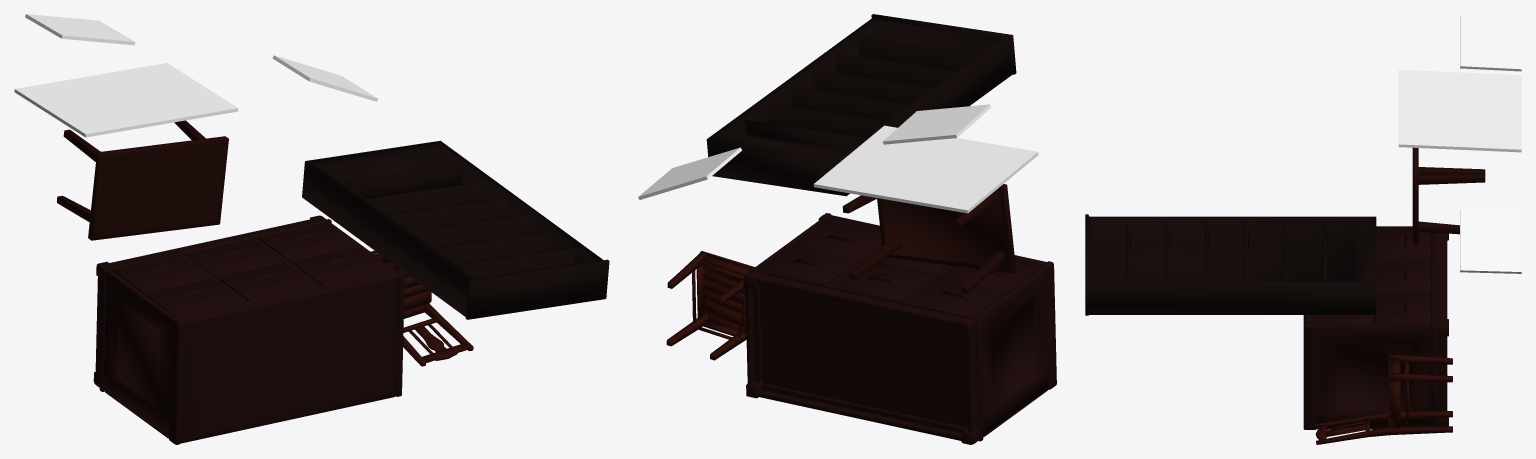
3 views of the same model, side by side, from view 1: azimuth 30°, elevation 25°; view 2: azimuth 150°, elevation 25°; view 3: azimuth 270°, elevation 25° (orthographic). The views are drawn at different scales.
Parts seen in each view (by area): view 1: diffuse_cabinet_01, diffuse_shelf_03, diffuse_table_02, glass_window_01, diffuse_chair_04, glass_partition_03, glass_partition_02; view 2: diffuse_cabinet_01, diffuse_shelf_03, glass_window_01, diffuse_table_02, diffuse_chair_04, glass_partition_03, glass_partition_02; view 3: diffuse_shelf_03, diffuse_cabinet_01, glass_window_01, diffuse_chair_04, glass_partition_02, glass_partition_03, diffuse_table_02.
Part boxes in pixels (bbox=[...]): diffuse_cabinet_01: bbox=[93, 215, 404, 444]; diffuse_shelf_03: bbox=[302, 140, 609, 319]; diffuse_table_02: bbox=[57, 120, 228, 240]; glass_window_01: bbox=[14, 63, 238, 137]; diffuse_chair_04: bbox=[371, 250, 473, 366]; glass_partition_03: bbox=[25, 14, 135, 45]; glass_partition_02: bbox=[272, 55, 377, 101]; diffuse_cabinet_01: bbox=[743, 213, 1056, 444]; diffuse_shelf_03: bbox=[706, 14, 1016, 196]; glass_window_01: bbox=[813, 125, 1038, 213]; diffuse_table_02: bbox=[842, 184, 1015, 293]; diffuse_chair_04: bbox=[666, 251, 754, 360]; glass_partition_03: bbox=[882, 104, 991, 144]; glass_partition_02: bbox=[638, 147, 741, 199]; diffuse_shelf_03: bbox=[1085, 214, 1376, 315]; diffuse_cabinet_01: bbox=[1303, 226, 1448, 429]; glass_window_01: bbox=[1398, 69, 1521, 152]; diffuse_chair_04: bbox=[1315, 353, 1452, 444]; glass_partition_02: bbox=[1460, 209, 1521, 273]; glass_partition_03: bbox=[1460, 14, 1521, 71]; diffuse_table_02: bbox=[1412, 147, 1485, 244].
Size of the model in its own units: 225 by 223 by 284.
